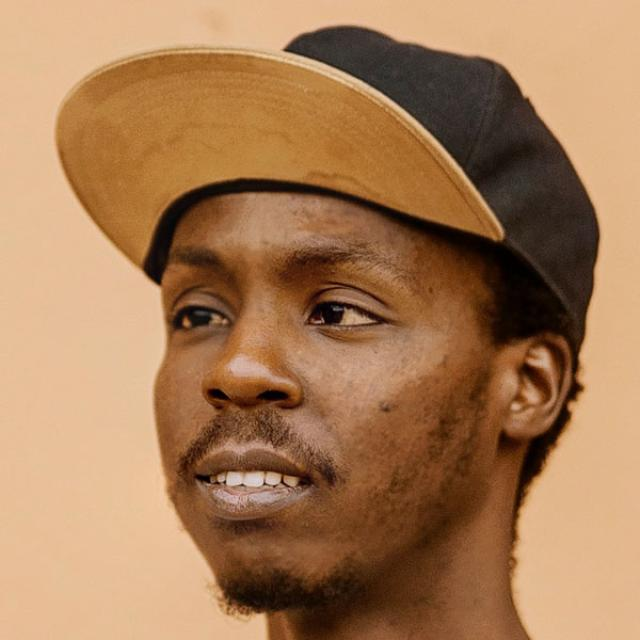face: (116, 168, 562, 605)
